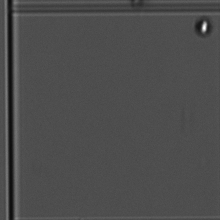Living Cell: (192, 14, 215, 37)
